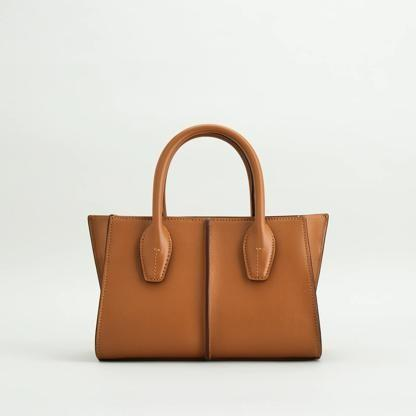not trash: (84, 126, 328, 366)
